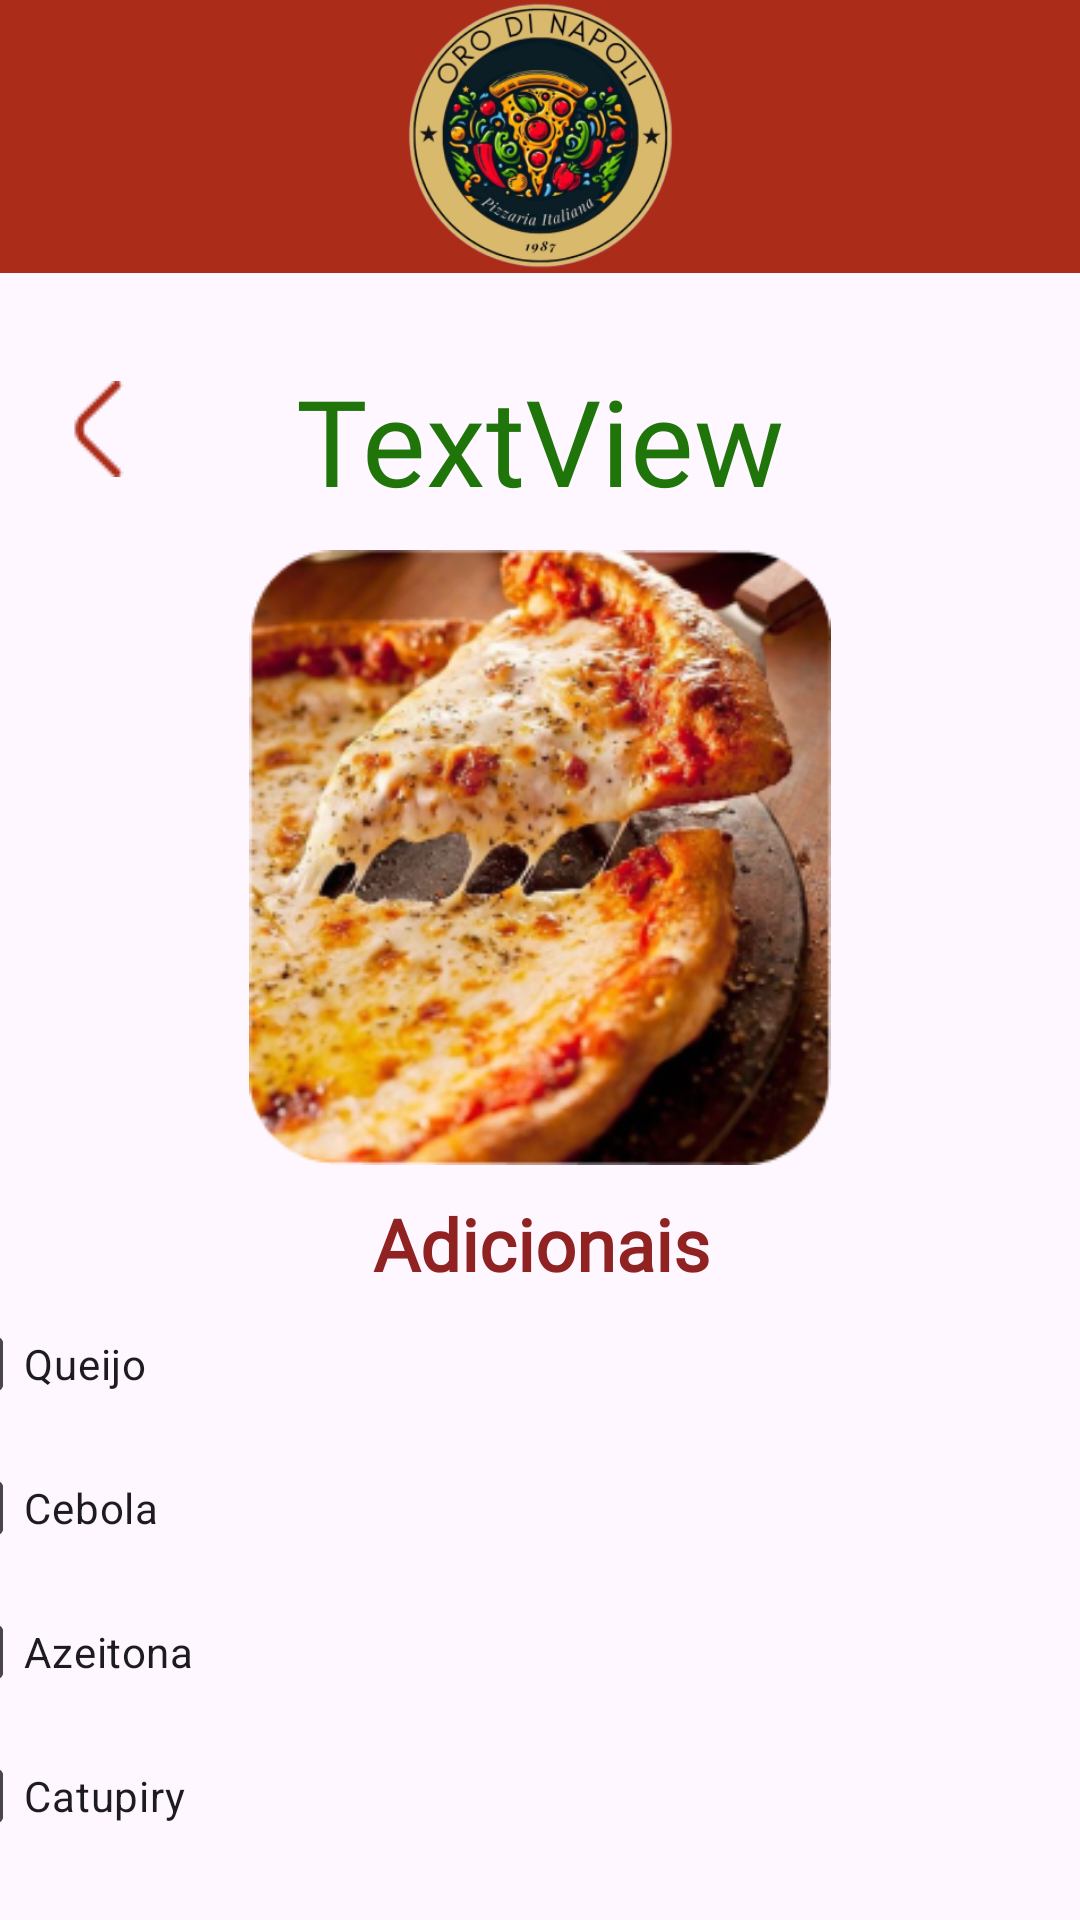

Where icons sit on this 1080 x 1920 app screen, as rect(x1, y1, x2, y2):
voltar: rect(74, 381, 123, 477)
